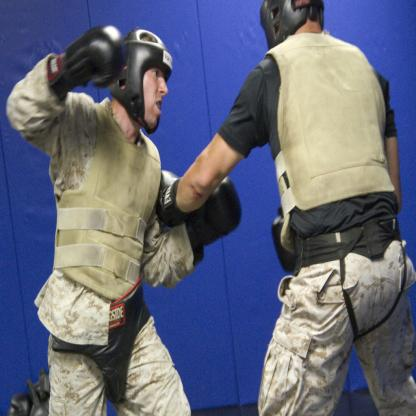Helmet: (111, 27, 173, 127), (259, 0, 307, 48)
